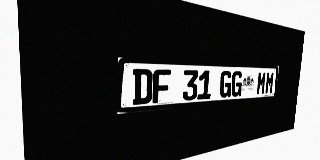1: (197, 70, 212, 100)
3: (182, 70, 198, 101)
D: (132, 69, 153, 105)
F: (152, 69, 171, 103)
G: (219, 71, 232, 98), (231, 71, 243, 97)
M: (256, 72, 267, 95), (265, 72, 275, 94)
